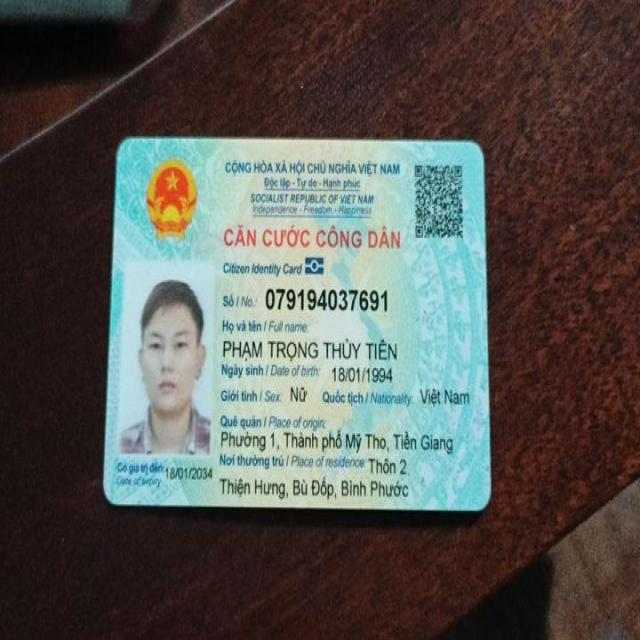bottom_left: (96, 481, 130, 519)
bottom_right: (466, 484, 497, 525)
image_person: (122, 262, 212, 466)
top_left: (110, 130, 142, 172)
top_right: (456, 132, 492, 164)
